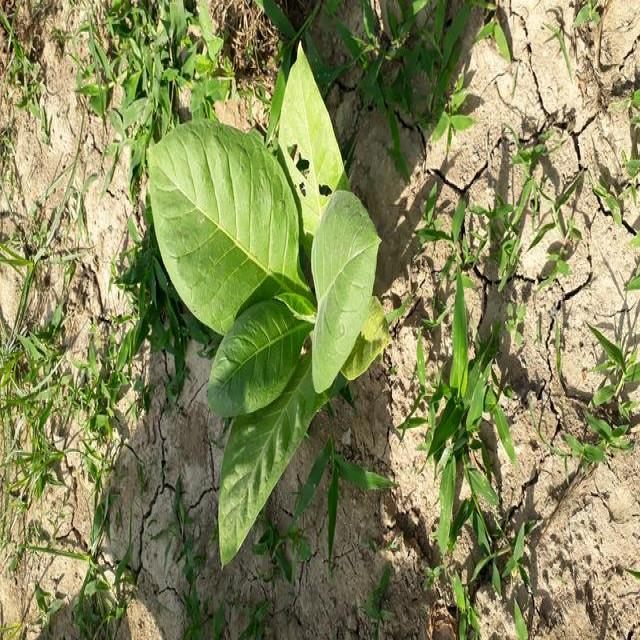crop: (140, 42, 386, 580)
